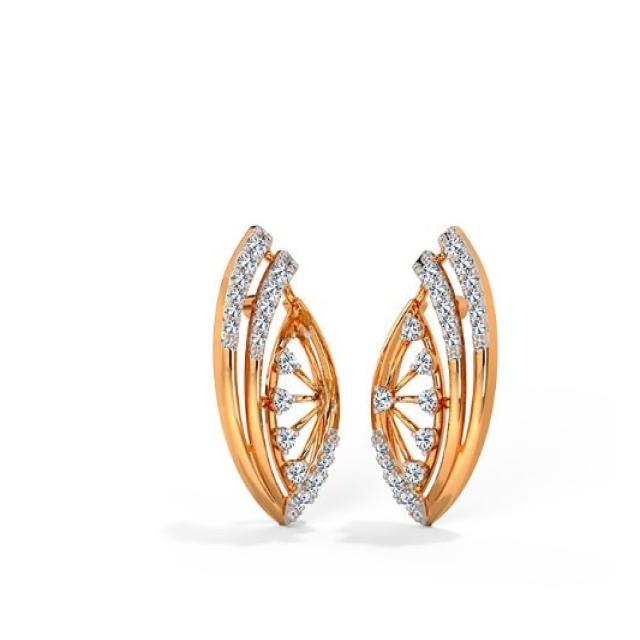missing gem: (281, 301, 314, 341), (316, 379, 339, 420)
